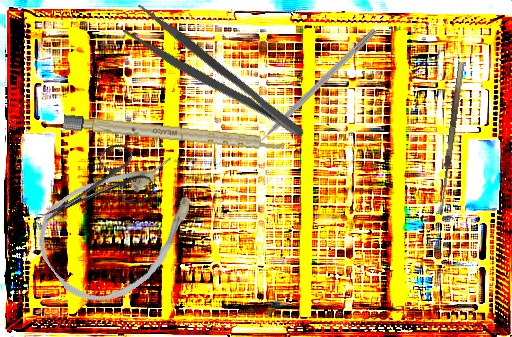Cannula: (21, 133, 221, 322)
Chopper: (241, 21, 378, 154)
Dressing Forceps: (117, 0, 311, 158)
Hook Surgical: (437, 61, 473, 217)
Iris Scissors: (29, 136, 159, 249)
Scalpel Handle: (62, 114, 287, 153)
